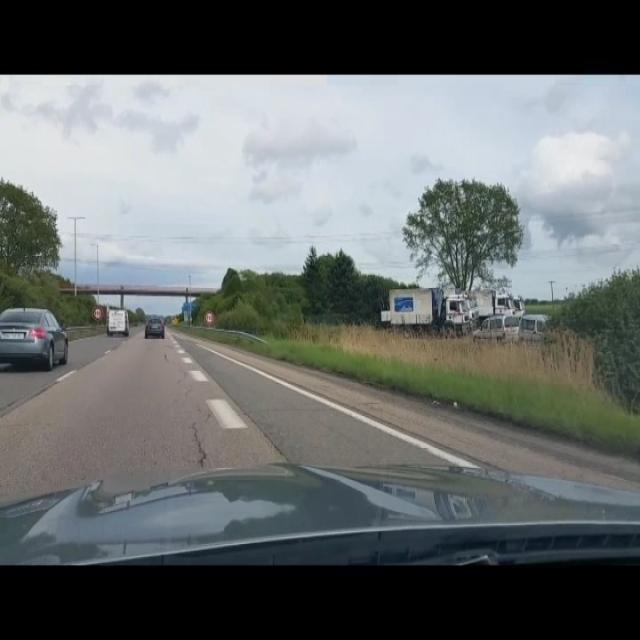speed_110: (92, 306, 104, 322), (204, 310, 215, 326)
